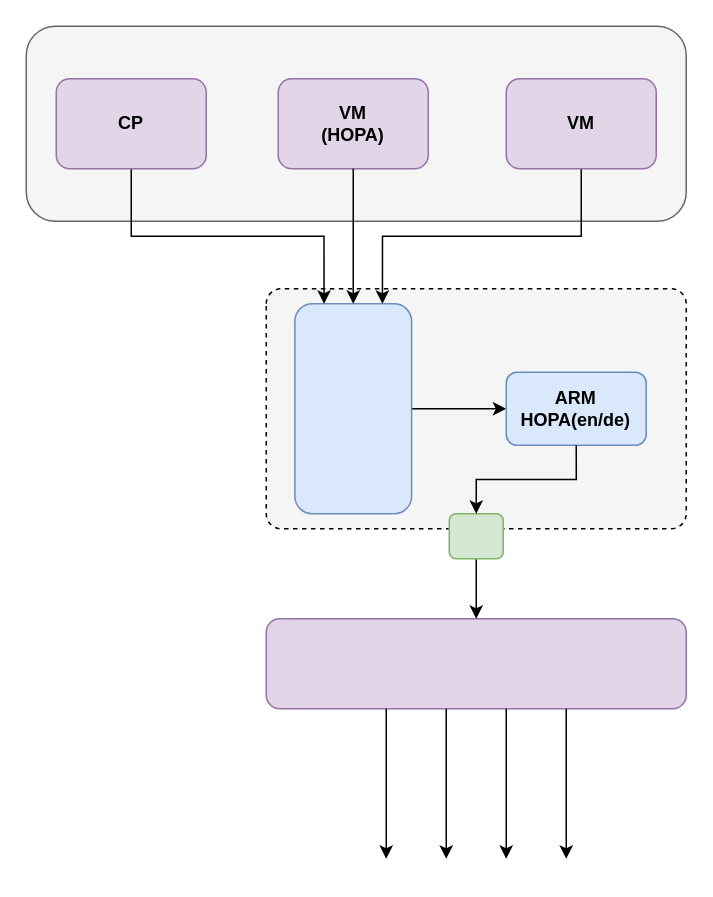
Some shapes in this 713 by 897 pixel diagram are drawn without their labels. Each missing label, with the centre of its shape:
OVS: pixel 352 408
P4: pixel 475 663
